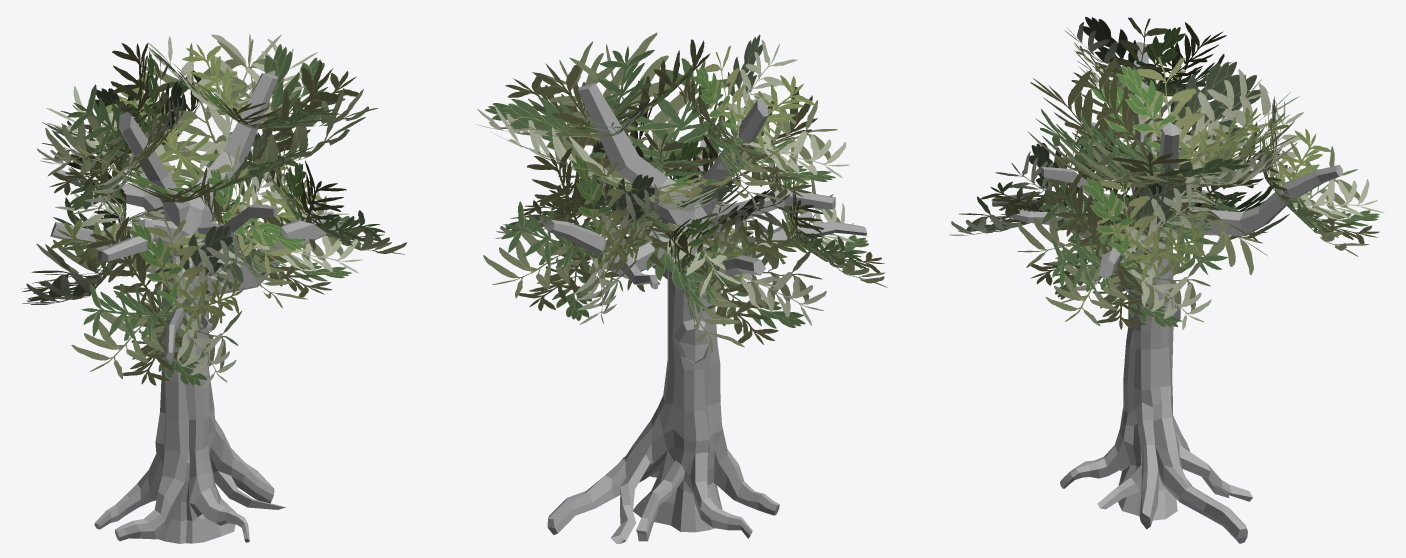
The model's file is Kauri_sqaureplanes.fbx.
3 views of the same model, side by side, from view 1: azimuth 30°, elevation 25°; view 2: azimuth 150°, elevation 25°; view 3: azimuth 270°, elevation 25° (orthographic). The views are drawn at different scales.
Parts seen in each view (by area): view 1: pCylinder26; view 2: pCylinder26; view 3: pCylinder26.
Part boxes in pixels (x1,y1,x2,y2): pCylinder26: (21,34,406,543); pCylinder26: (476,32,887,543); pCylinder26: (949,16,1384,543).
Size of the model in its own units: 45.62 by 59.33 by 52.26.
